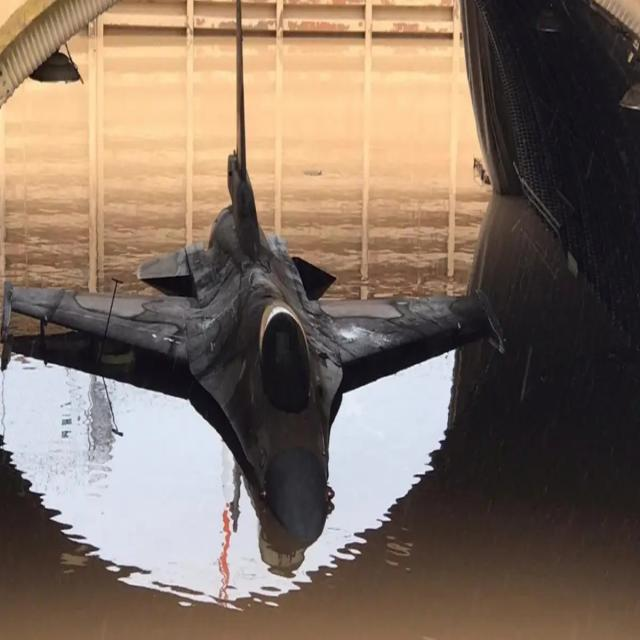MIL_Plane: (1, 1, 506, 543)
